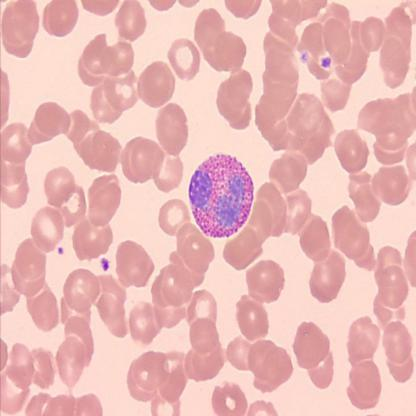Eosinophil: (186, 153, 256, 241)
